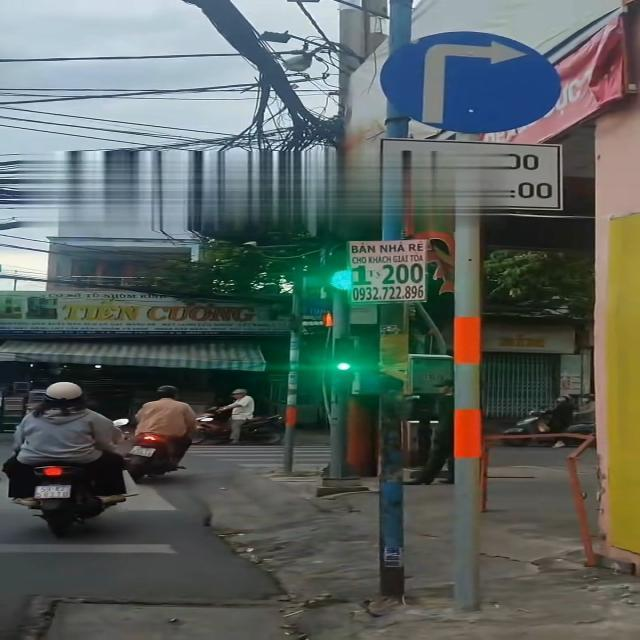301d-cac-xe-chi-duoc-re-phai-2: (376, 28, 570, 134)
